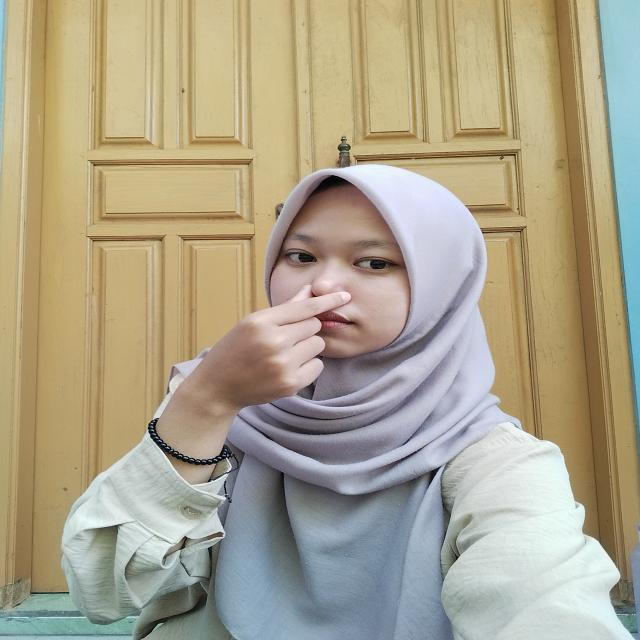bau: (201, 264, 362, 421)
